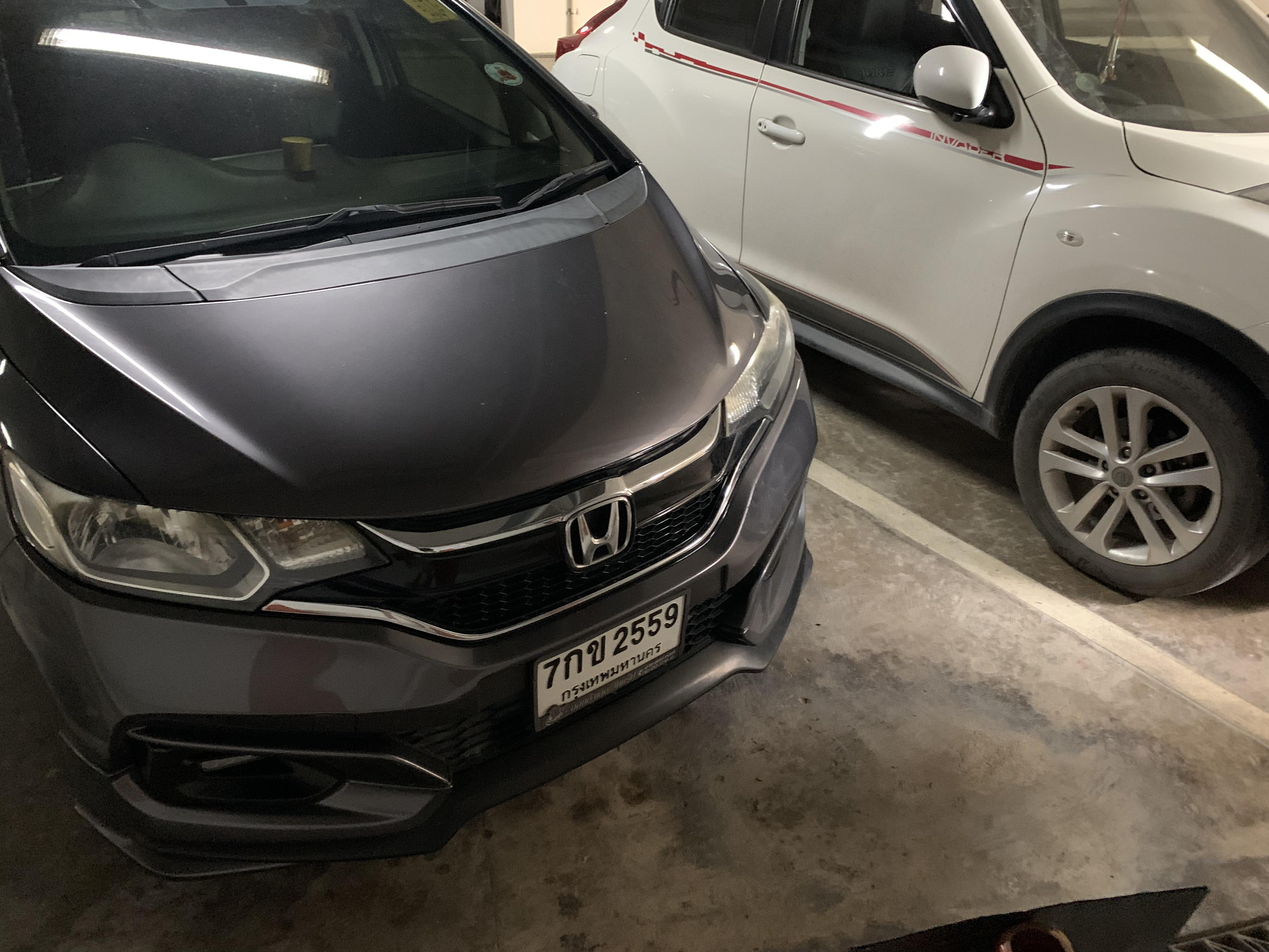license-plate: (531, 584, 695, 738)
